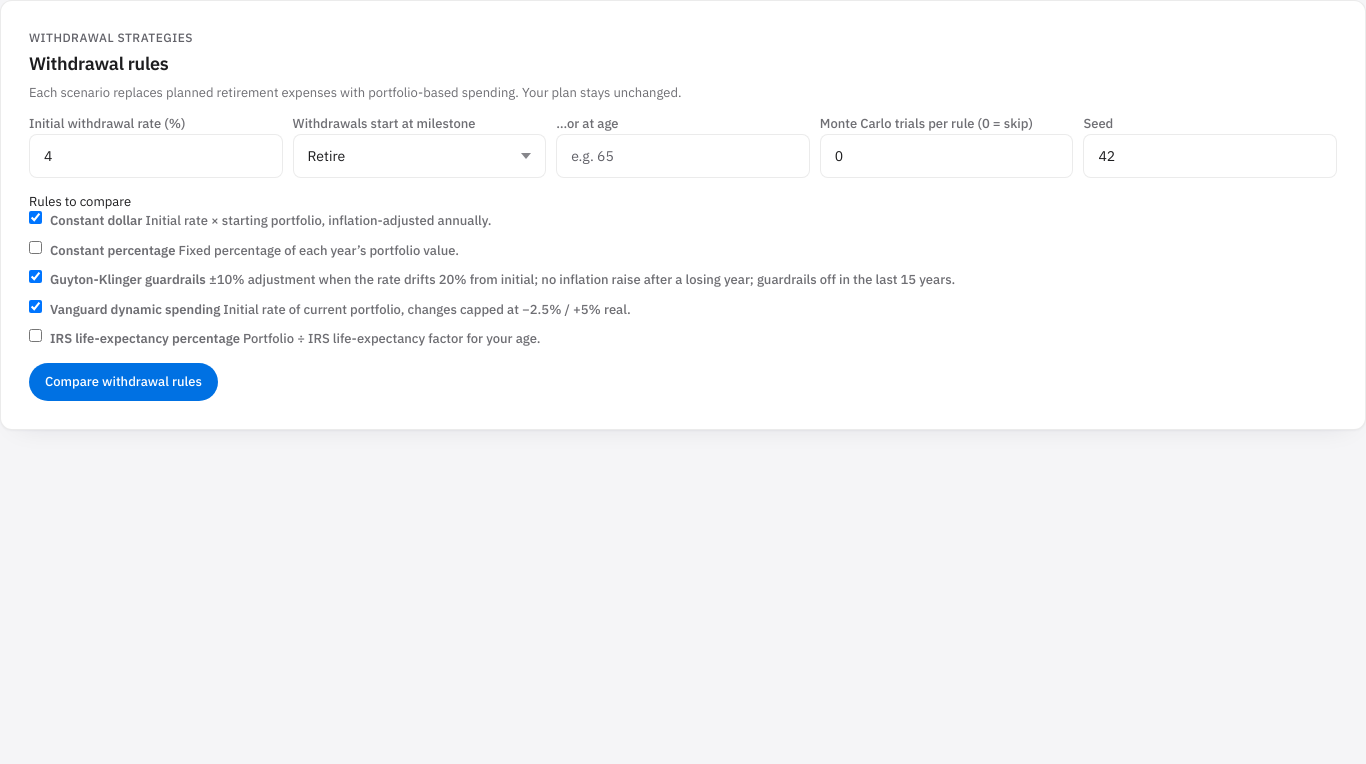
Test case: WithdrawalStrategiesPanel › defaults to retirement and sends the chosen rules in decimal units
expect the dropdown labelled "Withdrawals start at milestone" shows "Retire": met, box [293, 134, 546, 178]
Replace the text in the number field labelled "Initial withdrawal rate (%)" with "3.5" at (156,156), box [29, 134, 283, 178]
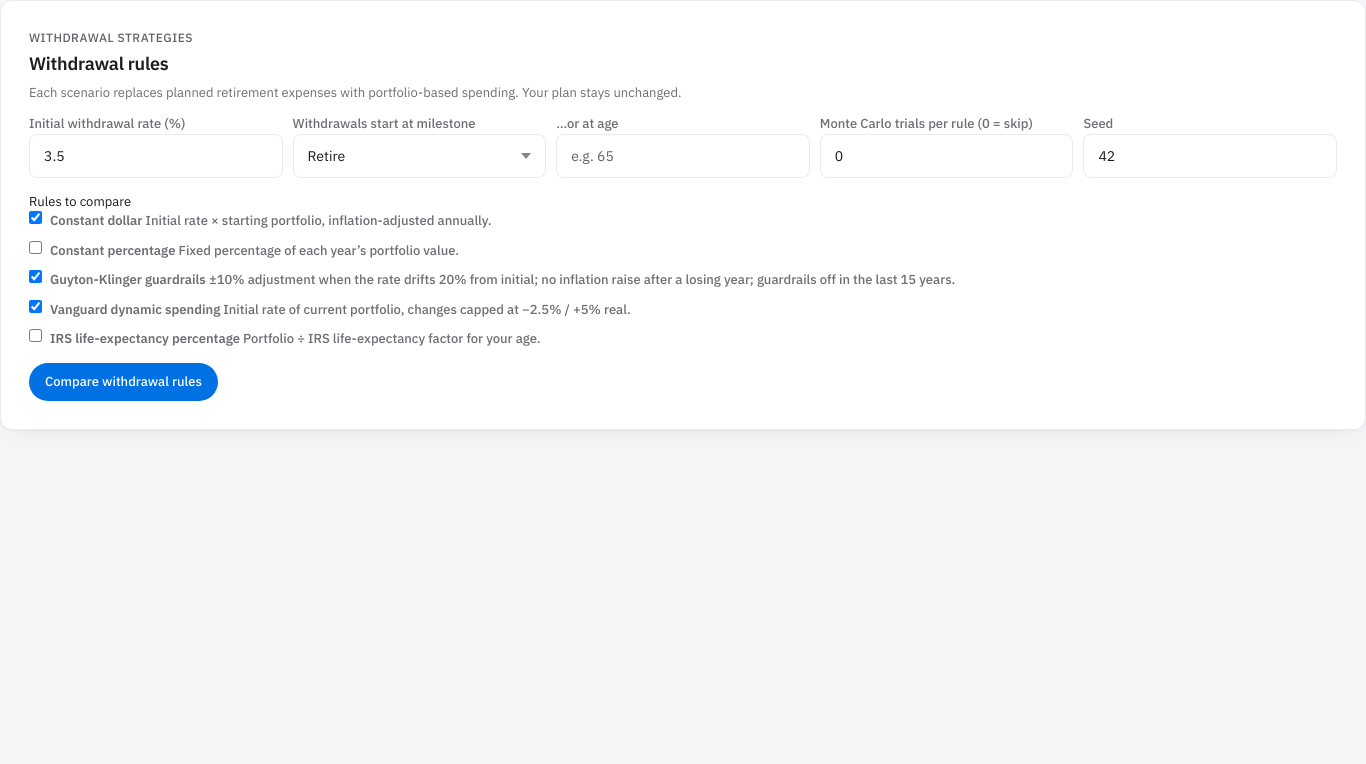
Click the checkbox labelled "Vanguard dynamic spending" at (36,306), box [29, 300, 42, 313]
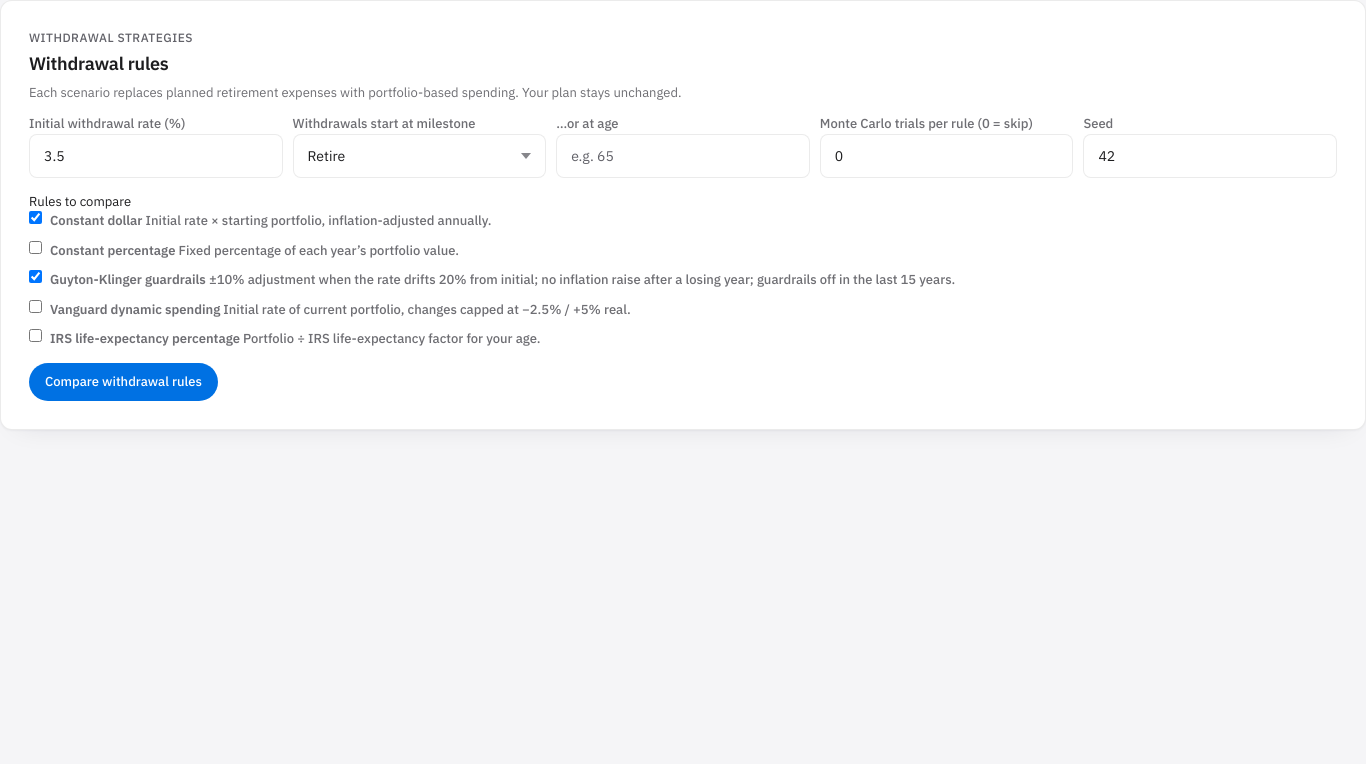
Replace the text in the number field labelled "Monte Carlo trials per rule (0 = skip)" with "100" at (947,156), box [820, 134, 1073, 178]
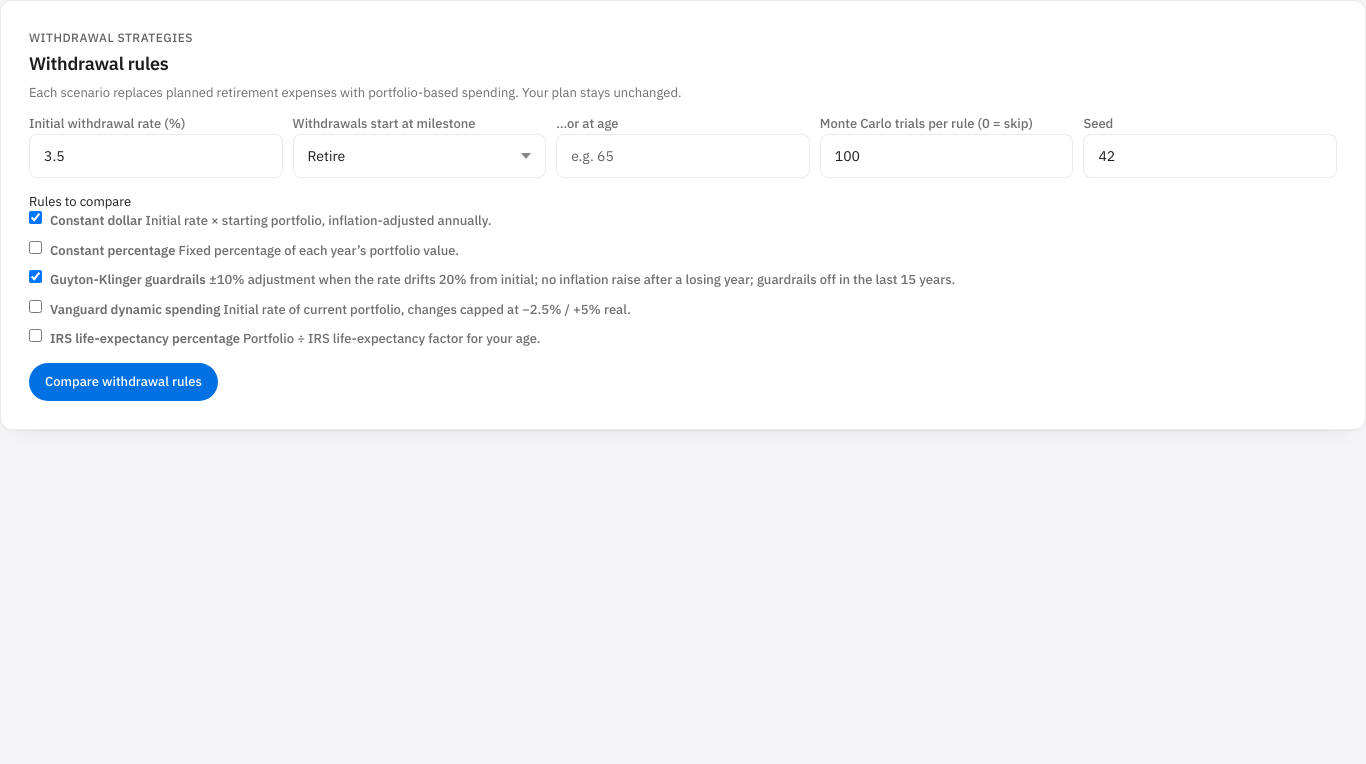
Click the button "Compare withdrawal rules" at (123,382), box [29, 363, 218, 401]
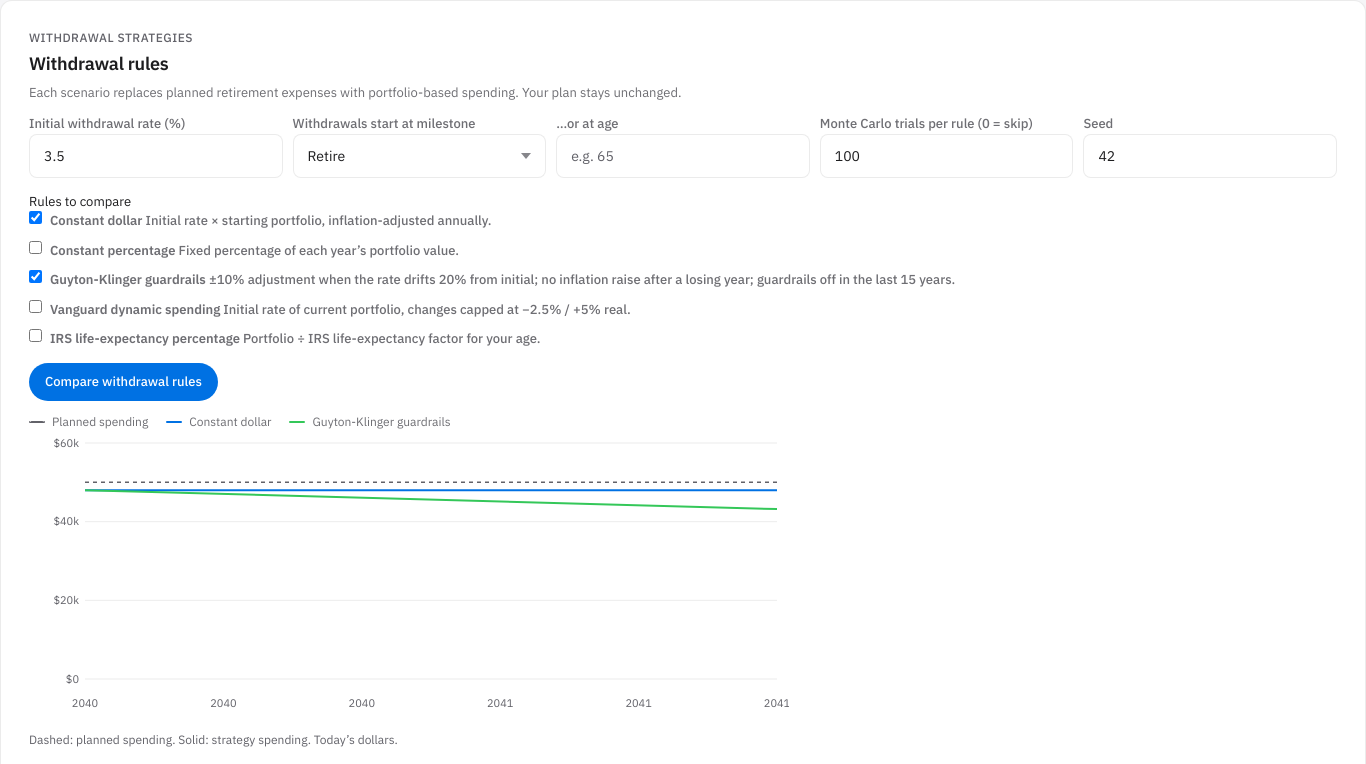
expect the picture named "Real spending by year" is shown: met, box [29, 431, 789, 719]
